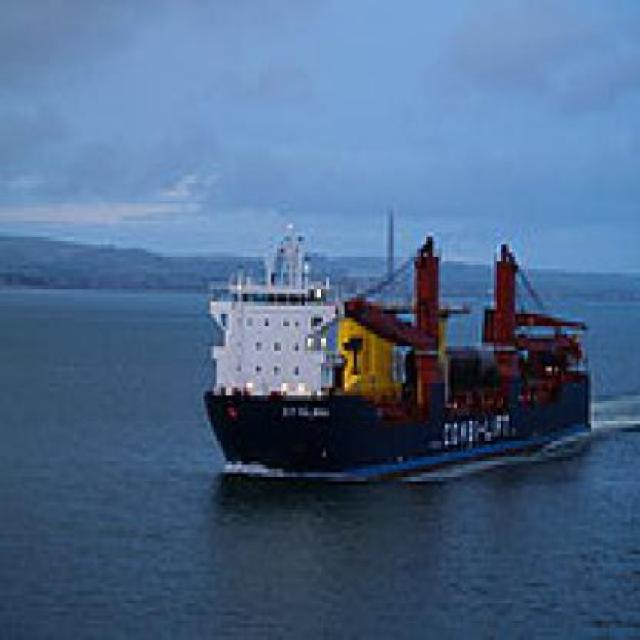container: (206, 197, 598, 491)
